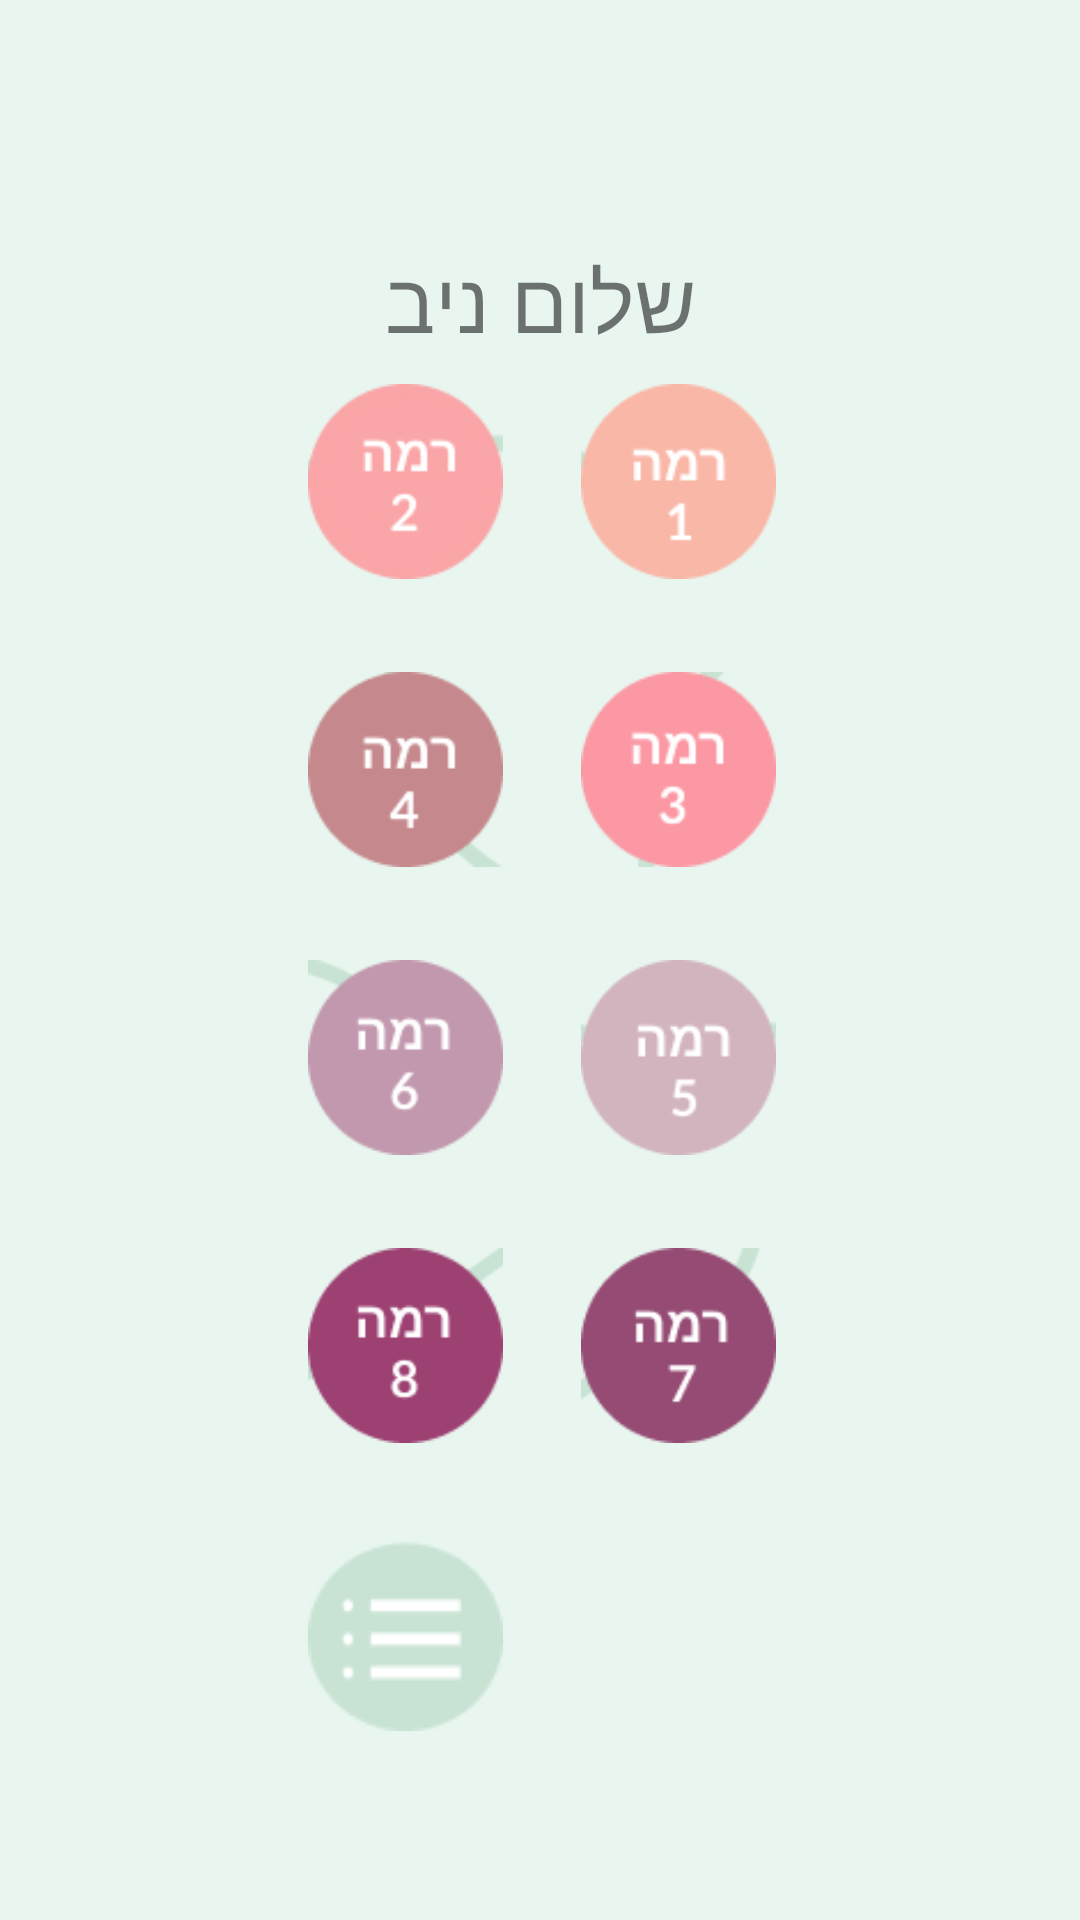

Icon click points for this 1080px x 1920px phone screenshot, format (x=x, y=y):
catagory: (x=405, y=1638)
